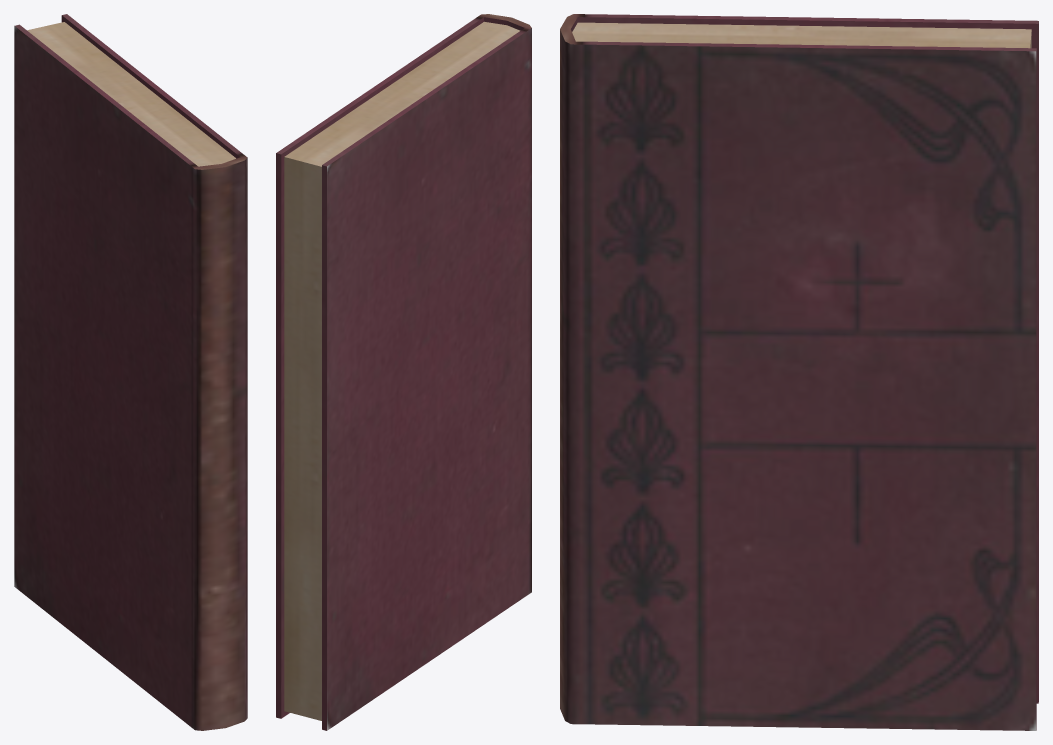
The picture shows the model from 3 angles, left to right: view 1: azimuth 30°, elevation 25°; view 2: azimuth 150°, elevation 25°; view 3: azimuth 270°, elevation 25°; orthographic projection. The views are drawn at different scales.
Visible parts, largest first — view 1: Object_74; view 2: Object_74; view 3: Object_74.
Boxes of the visible parts, box(x1,y1,x2,y2) form: Object_74: box(14, 14, 247, 730); Object_74: box(276, 14, 531, 730); Object_74: box(560, 14, 1038, 730).
Bounding box in the file's own units: 0.0952 × 0.8085 × 0.5163.
1 material, 1 textured.
